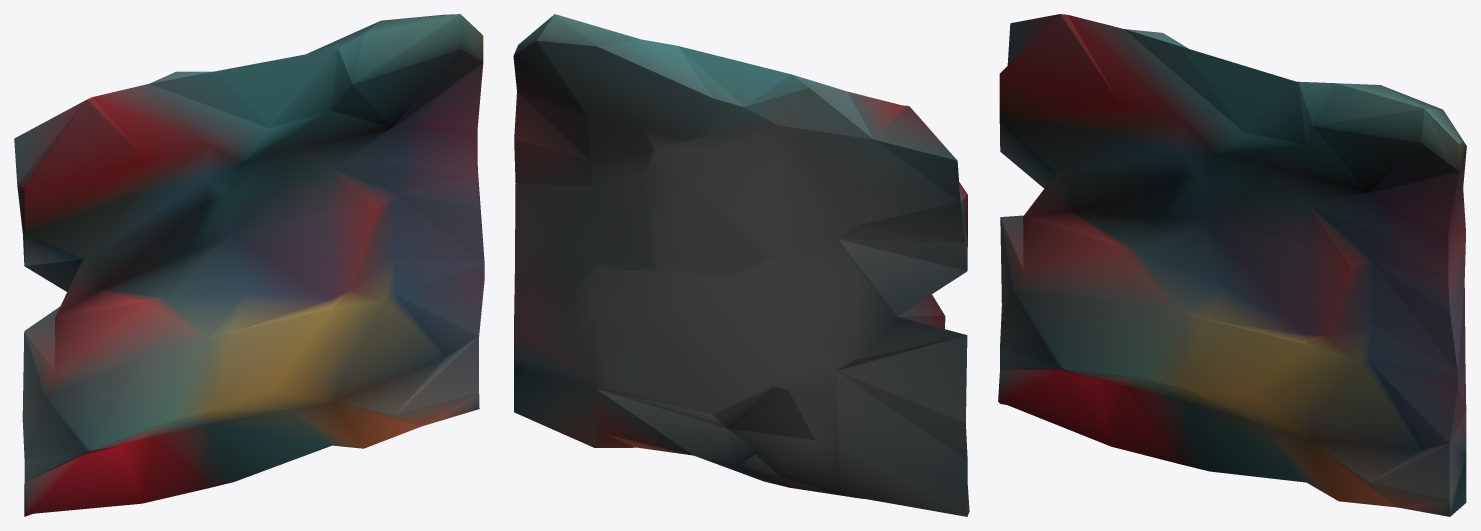
The picture shows the model from 3 angles, left to right: view 1: azimuth 30°, elevation 25°; view 2: azimuth 150°, elevation 25°; view 3: azimuth 330°, elevation 25°; orthographic projection. The views are drawn at different scales.
Size of the model in its own units: 4 by 3.5 by 0.3.
